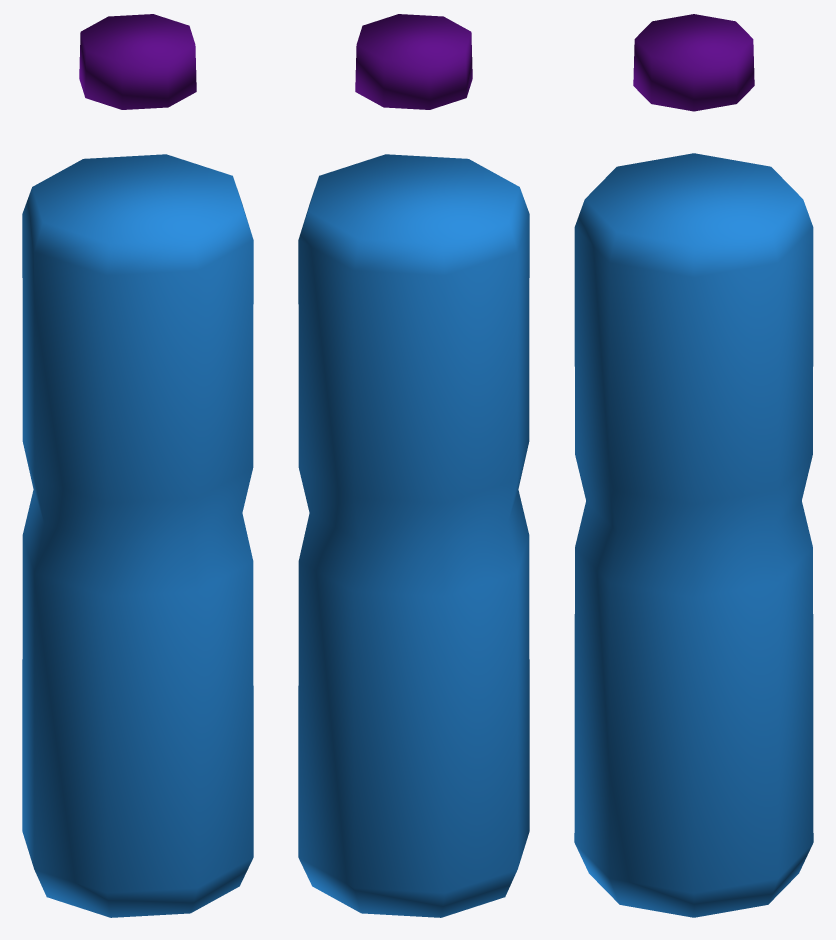
Rendered from Shelves_Assets_Drinks_AirMineral.fbx.
3 views of the same model, side by side, from view 1: azimuth 30°, elevation 25°; view 2: azimuth 150°, elevation 25°; view 3: azimuth 270°, elevation 25° (orthographic).
Parts seen in each view (by area): view 1: Shelves_Assets_Drinks_AirMineral; view 2: Shelves_Assets_Drinks_AirMineral; view 3: Shelves_Assets_Drinks_AirMineral.
Part boxes in pixels (x1,y1,x2,y2): Shelves_Assets_Drinks_AirMineral: (22, 14, 253, 917); Shelves_Assets_Drinks_AirMineral: (298, 14, 529, 917); Shelves_Assets_Drinks_AirMineral: (574, 14, 813, 917).
Bounding box in the file's own units: 9.09 × 33 × 9.09.
